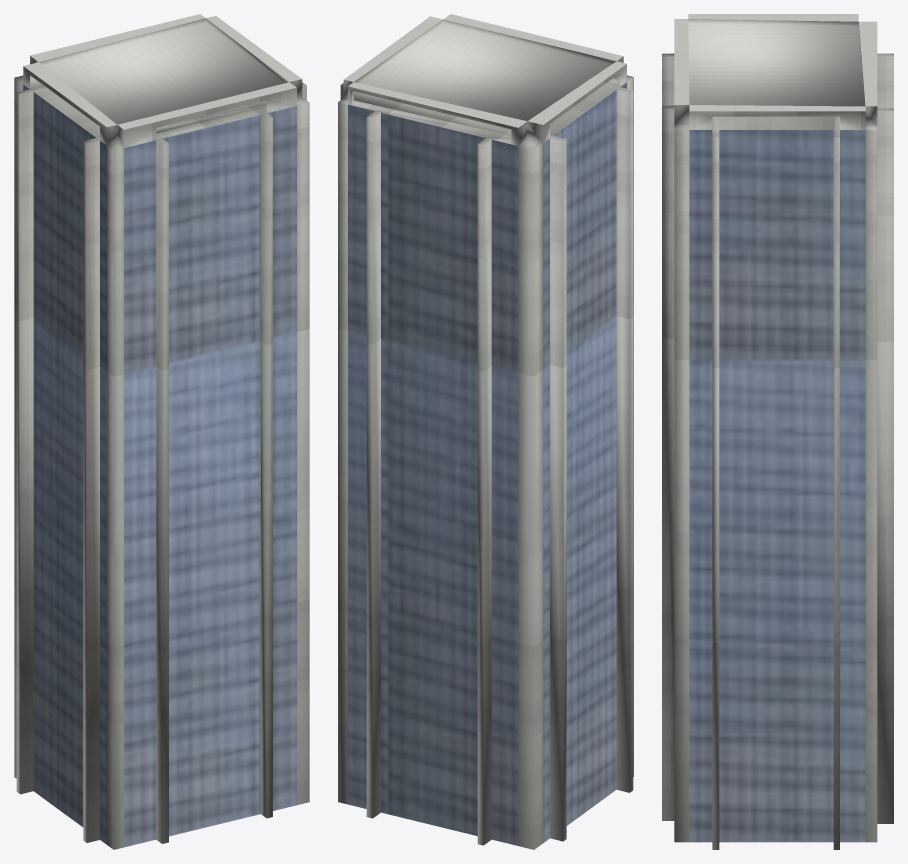
Rendered from United_Centre.dae.
The picture shows the model from 3 angles, left to right: view 1: azimuth 30°, elevation 25°; view 2: azimuth 150°, elevation 25°; view 3: azimuth 270°, elevation 25°; orthographic projection.
Parts seen in each view (by area): view 1: _Beige_1, Color_001, Groundcover_Sand_Wind, FrontColor; view 2: _Beige_1, Color_001, Groundcover_Sand_Wind, FrontColor; view 3: _Beige_1, Color_001, Groundcover_Sand_Wind, FrontColor.
Boxes of the visible parts, bbox=[...] form: _Beige_1: bbox=[23, 84, 296, 847]; Color_001: bbox=[14, 56, 309, 849]; Groundcover_Sand_Wind: bbox=[39, 18, 288, 124]; FrontColor: bbox=[23, 14, 301, 129]; _Beige_1: bbox=[348, 82, 626, 845]; Color_001: bbox=[338, 56, 633, 849]; Groundcover_Sand_Wind: bbox=[354, 19, 616, 121]; FrontColor: bbox=[344, 14, 626, 127]; _Beige_1: bbox=[689, 130, 865, 842]; Color_001: bbox=[662, 53, 893, 849]; Groundcover_Sand_Wind: bbox=[688, 19, 865, 106]; FrontColor: bbox=[674, 14, 877, 111].
Size of the model in its own units: 48.88 by 42.88 by 149.
3 materials, 3 textured.
